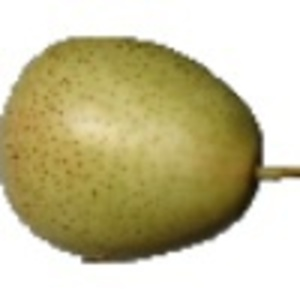pera: (1, 13, 300, 266)
